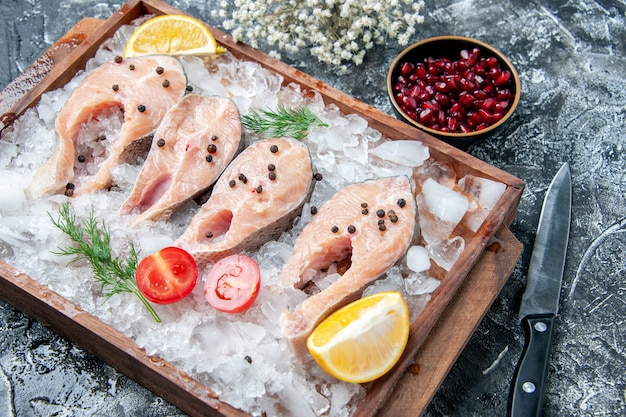knife: (505, 161, 573, 417)
